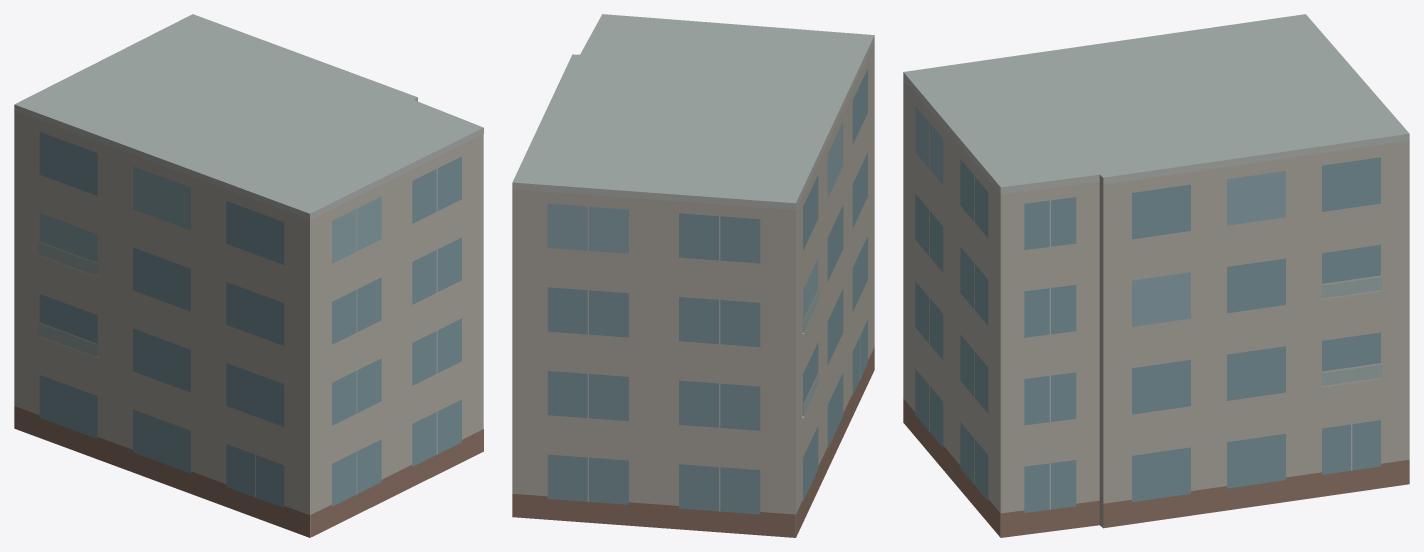
File: survey-upis-32910903.glb
The picture shows the model from 3 angles, left to right: view 1: azimuth 30°, elevation 25°; view 2: azimuth 150°, elevation 25°; view 3: azimuth 270°, elevation 25°; orthographic projection. The views are drawn at different scales.
Parts seen in each view (by area): view 1: survey-upis-32910903.tmp; view 2: survey-upis-32910903.tmp; view 3: survey-upis-32910903.tmp.
Part boxes in pixels (x1,y1,x2,y2): survey-upis-32910903.tmp: (14,14,483,537); survey-upis-32910903.tmp: (512,14,874,537); survey-upis-32910903.tmp: (903,14,1409,537).
Bounding box in the file's own units: 12.95 × 12.2 × 15.98.
